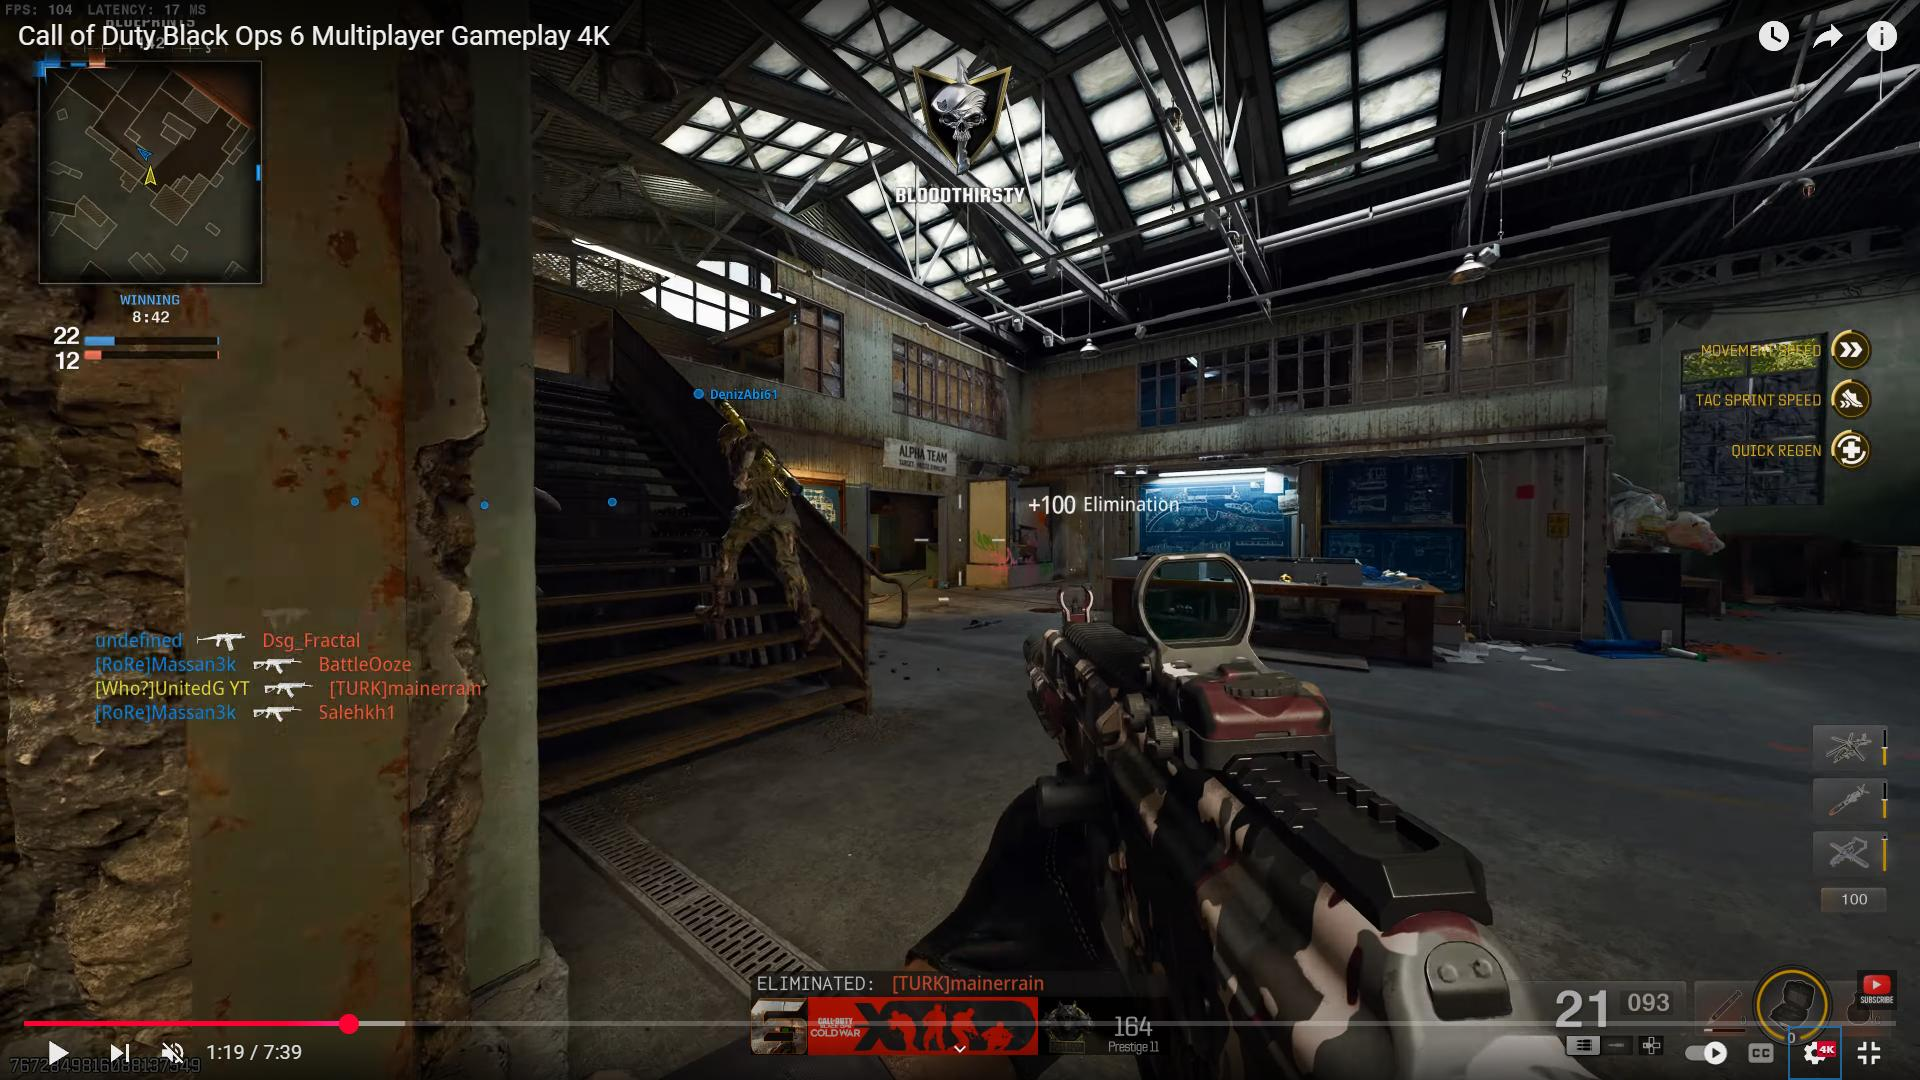Enemy: (699, 426, 818, 632)
